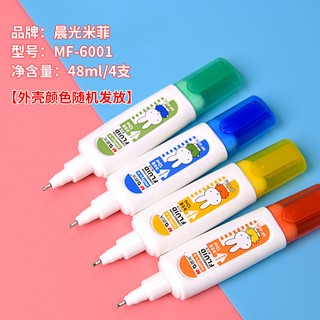Correction_fluid: (38, 53, 247, 195), (114, 179, 320, 320), (64, 95, 277, 231), (89, 138, 306, 271)
